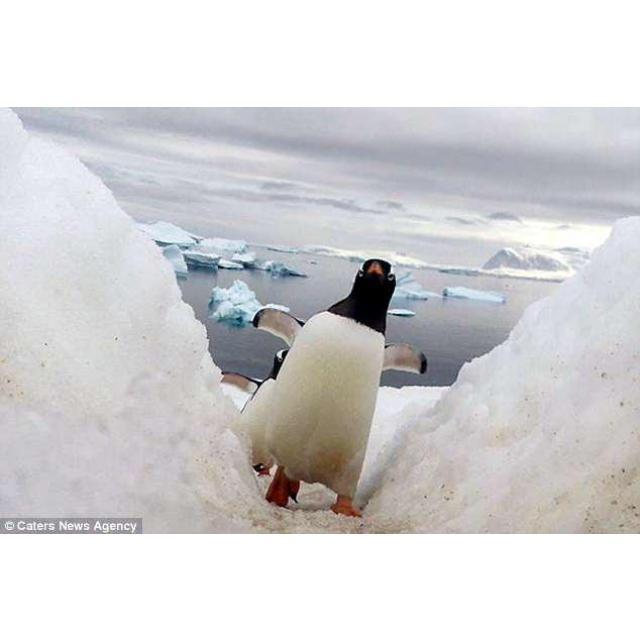penguin: (251, 259, 429, 517)
